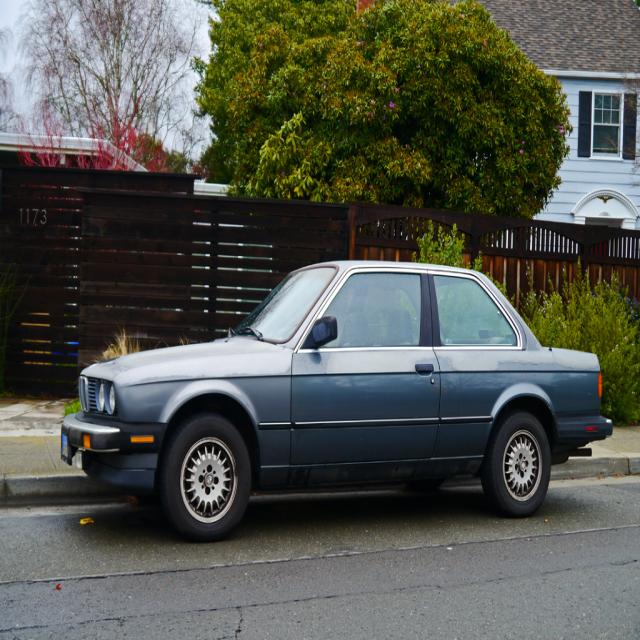car: (57, 258, 607, 544)
